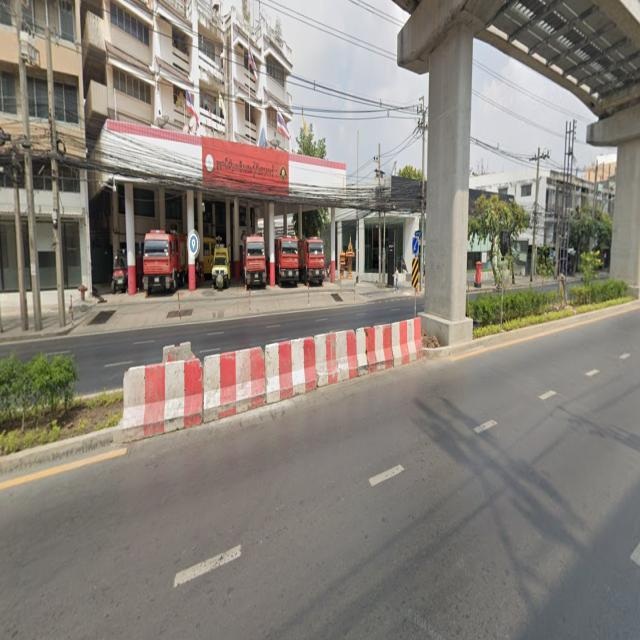fallen_object: (192, 323, 274, 428), (113, 353, 205, 440), (355, 313, 445, 377), (253, 330, 330, 402), (307, 320, 376, 400)
